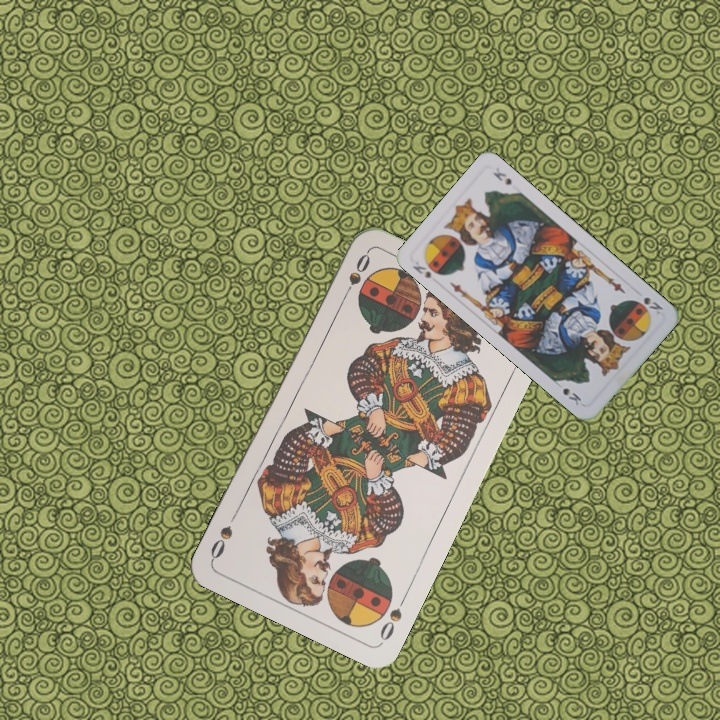SK: (408, 255, 445, 281), (639, 293, 666, 318)
SO: (338, 249, 373, 304), (375, 590, 410, 644)
